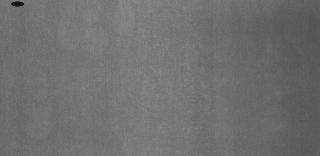punching hole: (10, 0, 24, 7)
